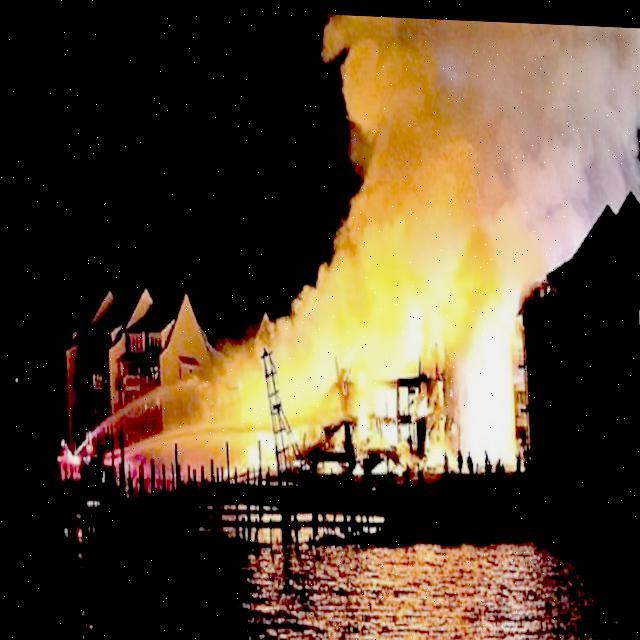Fire: (220, 188, 536, 472)
